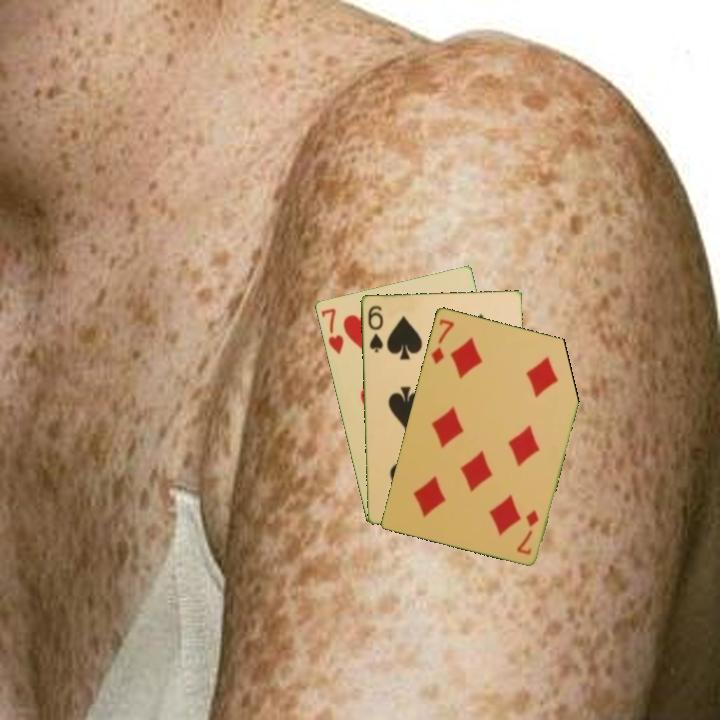6s: (364, 302, 385, 355)
7d: (427, 315, 457, 366), (513, 506, 541, 557)
7h: (317, 304, 346, 357)
